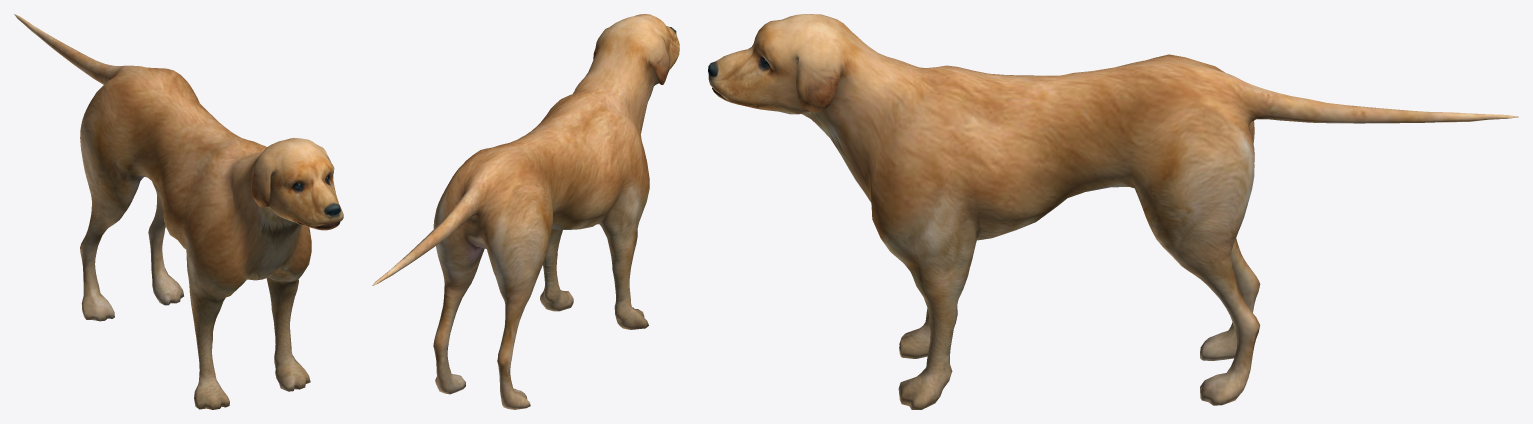
File: aipet3dmodel.gltf
3 views of the same model, side by side, from view 1: azimuth 30°, elevation 25°; view 2: azimuth 150°, elevation 25°; view 3: azimuth 270°, elevation 25° (orthographic). The views are drawn at different scales.
Visible parts, largest first — view 1: Mixamo_Goldenretriever_8k; view 2: Mixamo_Goldenretriever_8k; view 3: Mixamo_Goldenretriever_8k.
Boxes of the visible parts, x1,y1,x2,y2 form: Mixamo_Goldenretriever_8k: (14,14,343,409); Mixamo_Goldenretriever_8k: (372,14,679,409); Mixamo_Goldenretriever_8k: (708,14,1518,409).
Bounding box in the file's own units: 28.67 × 69.56 × 143.
Materials: 1 (1 with a texture image).
